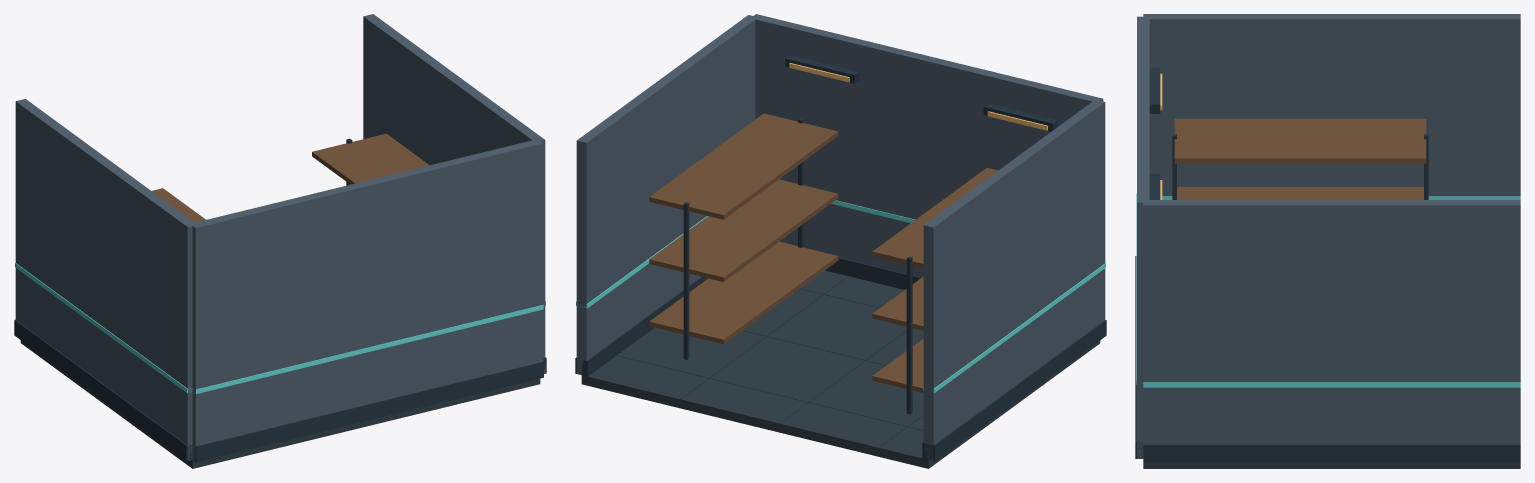
The model's file is horror_stockroom.obj.
The picture shows the model from 3 angles, left to right: view 1: azimuth 30°, elevation 25°; view 2: azimuth 150°, elevation 25°; view 3: azimuth 270°, elevation 25°; orthographic projection. The views are drawn at different scales.
Visible parts, largest first — view 1: BackWall, SideWall-1, SideWall1, BackSkirt, Shelf(4.5, 5.8), SideSkirt-1, Floor, BackRail, SideRail-1; view 2: BackWall, SideWall-1, Floor, SideWall1, Shelf(4.5, 5.8), Shelf(4.5, 3.4), Shelf(4.5, 1), SideSkirt-1, Shelf(-4.5, 5.8), SideSkirt1, Shelf(-4.5, 3.4), Shelf(-4.5, 1) (+6 smaller); view 3: SideWall1, SideWall-1, Shelf(-4.5, 5.8), SideSkirt1, BackWall, Shelf(-4.5, 3.4), Floor, SideRail1, LampCase-4.0, BackSkirt, SideRail-1.
Part boxes in pixels (x1,y1,x2,y2): BackWall: (190, 139, 543, 461); SideWall-1: (15, 99, 196, 460); SideWall1: (363, 14, 545, 373); BackSkirt: (195, 361, 543, 462); Shelf(4.5, 5.8): (312, 133, 429, 184); SideSkirt-1: (14, 319, 192, 461); Floor: (20, 340, 540, 468); BackRail: (193, 305, 543, 393); SideRail-1: (15, 263, 192, 393); BackWall: (751, 14, 1103, 277); SideWall-1: (923, 101, 1105, 460); Floor: (581, 270, 1100, 468); SideWall1: (576, 15, 756, 375); Shelf(4.5, 5.8): (649, 113, 838, 219); Shelf(4.5, 3.4): (649, 179, 838, 281); Shelf(4.5, 1): (649, 241, 838, 344); SideSkirt-1: (922, 320, 1106, 461); Shelf(-4.5, 5.8): (872, 168, 997, 268); SideSkirt1: (575, 276, 707, 376); Shelf(-4.5, 3.4): (872, 276, 923, 330); Shelf(-4.5, 1): (872, 339, 923, 392); SideWall1: (1143, 200, 1520, 444); SideWall-1: (1143, 14, 1520, 196); Shelf(-4.5, 5.8): (1174, 118, 1426, 163); SideSkirt1: (1143, 444, 1520, 462); BackWall: (1137, 16, 1149, 458); Shelf(-4.5, 3.4): (1177, 187, 1423, 199); Floor: (1143, 462, 1520, 468); SideRail1: (1143, 382, 1520, 387); LampCase-4.0: (1149, 67, 1160, 113); BackSkirt: (1135, 256, 1142, 458); SideRail-1: (1162, 196, 1520, 199).
Size of the model in its own units: 14.5 by 9.35 by 12.25.
